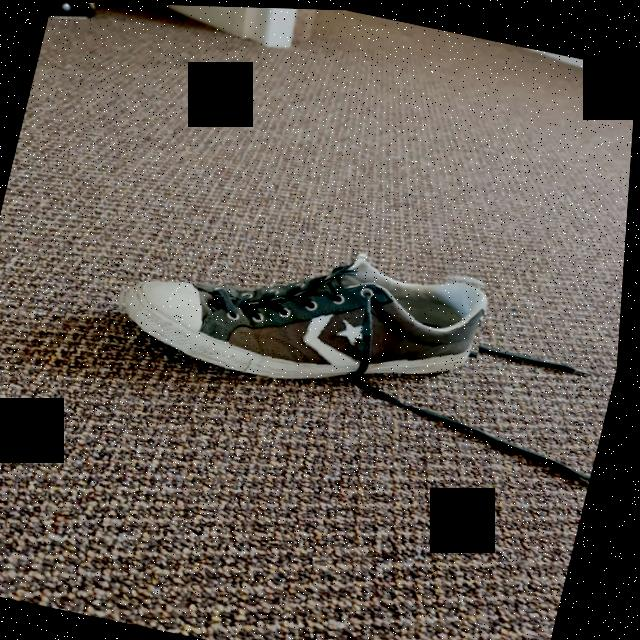shoe: (107, 203, 502, 414)
